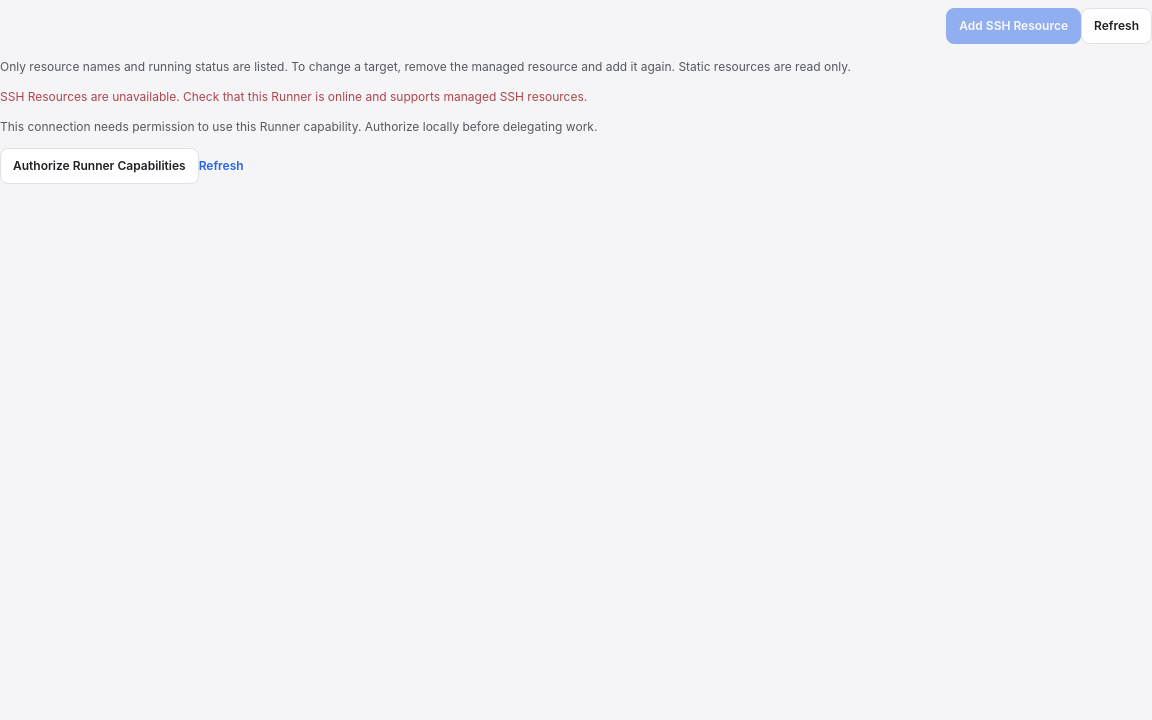
Test: Desktop SSH Resources › ssh uses shared explicit local authorization, independently of SSH inventory
Click the button "Authorize Runner Capabilities" at (99,166), box [0,148,199,184]
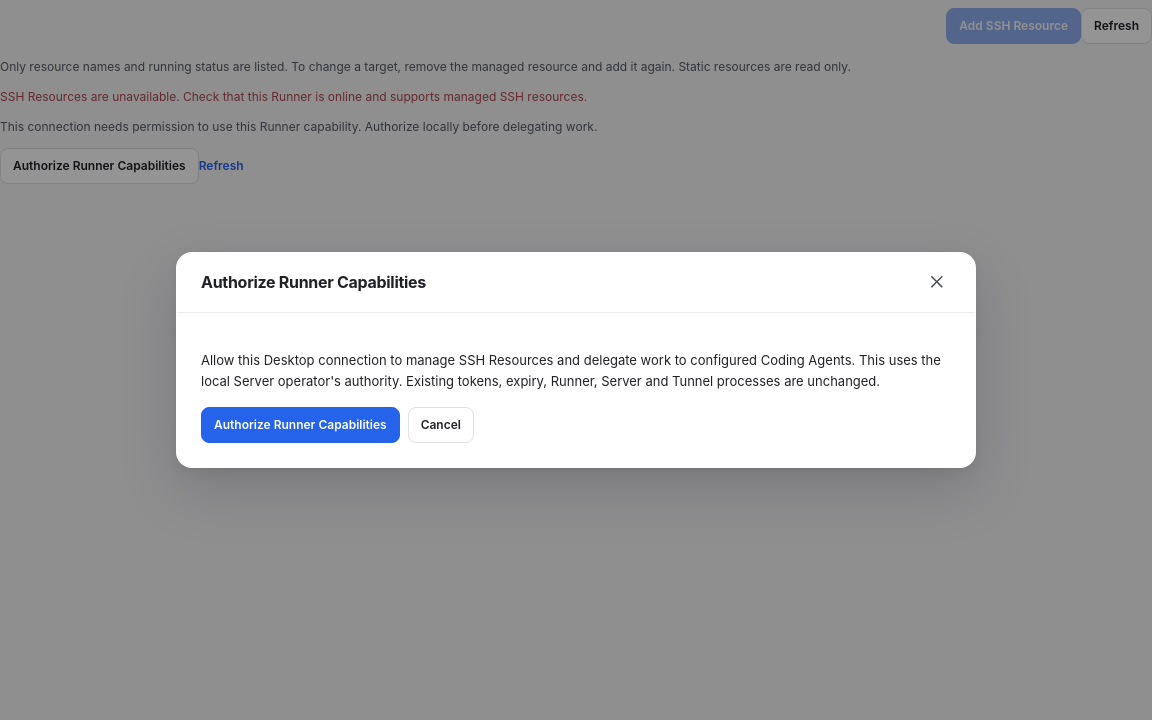
Now the text "Existing tokens, expiry" is shown, box [201,352,941,388]
Click the button with aria-label "Confirm Authorize Runner Capabilities" at (300,425), box [201,407,400,443]
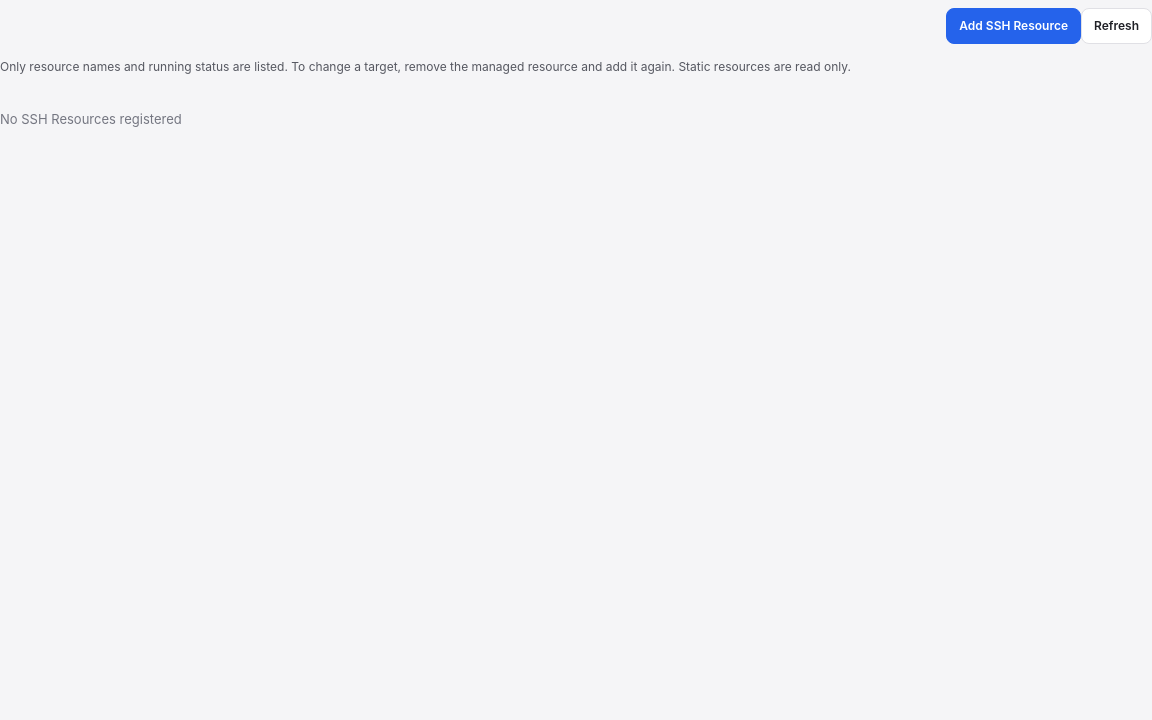
Now the button "Authorize Runner Capabilities" is gone
Now the button "Add SSH Resource" is enabled, box [946,8,1081,44]
